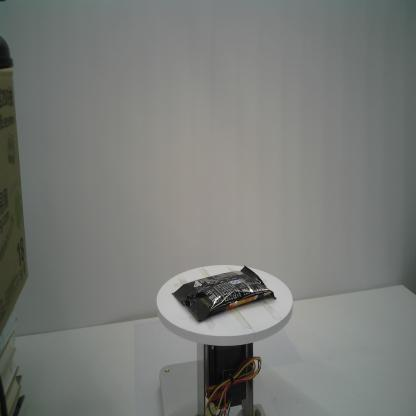Instant Drink: (172, 264, 276, 322)
